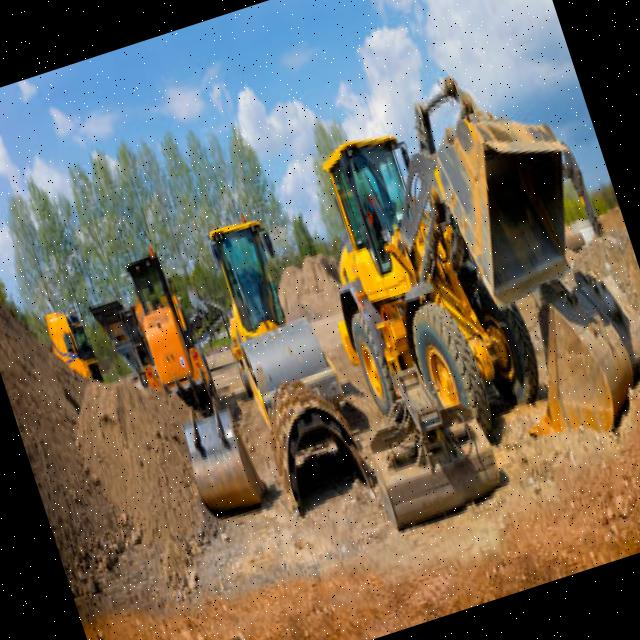Loader: (277, 41, 637, 446)
Roller: (192, 202, 350, 438)
